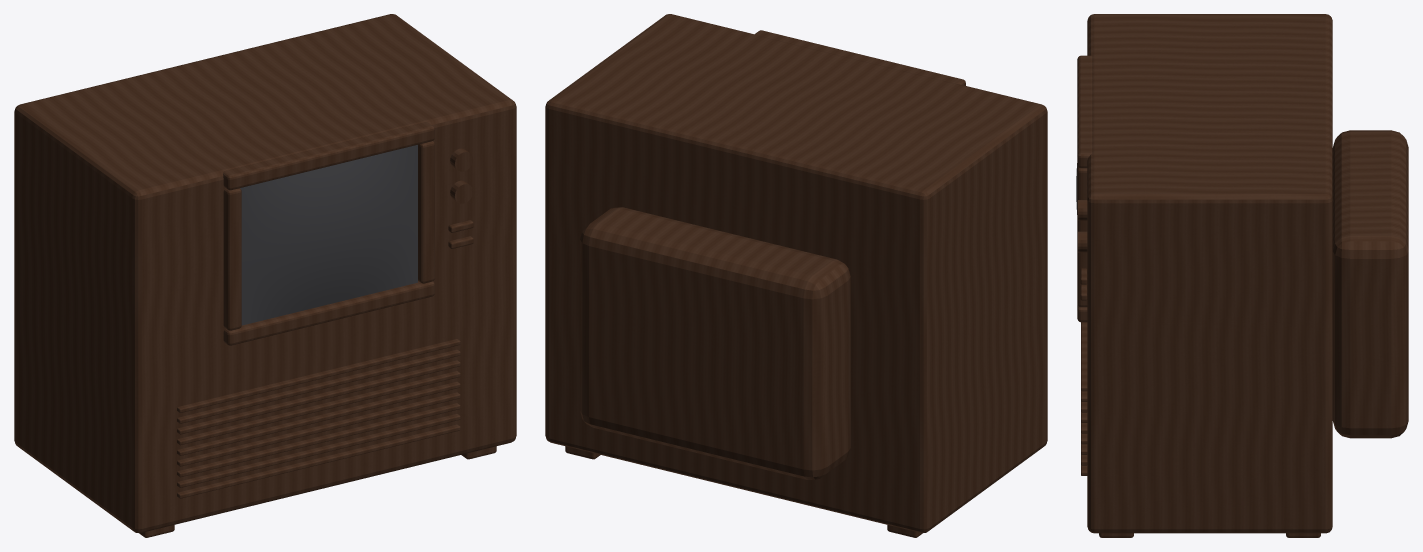
File: PRP_CRTTV_Intact.fbx
3 views of the same model, side by side, from view 1: azimuth 30°, elevation 25°; view 2: azimuth 150°, elevation 25°; view 3: azimuth 270°, elevation 25° (orthographic).
Parts seen in each view (by area): view 1: TV_Shell, TV_Screen; view 2: TV_Shell; view 3: TV_Shell.
Part boxes in pixels (x1,y1,x2,y2): TV_Shell: (14,14,516,537); TV_Screen: (240,145,417,325); TV_Shell: (545,14,1047,537); TV_Shell: (1077,14,1408,537).
Size of the model in its own units: 75 by 66 by 56.9.
